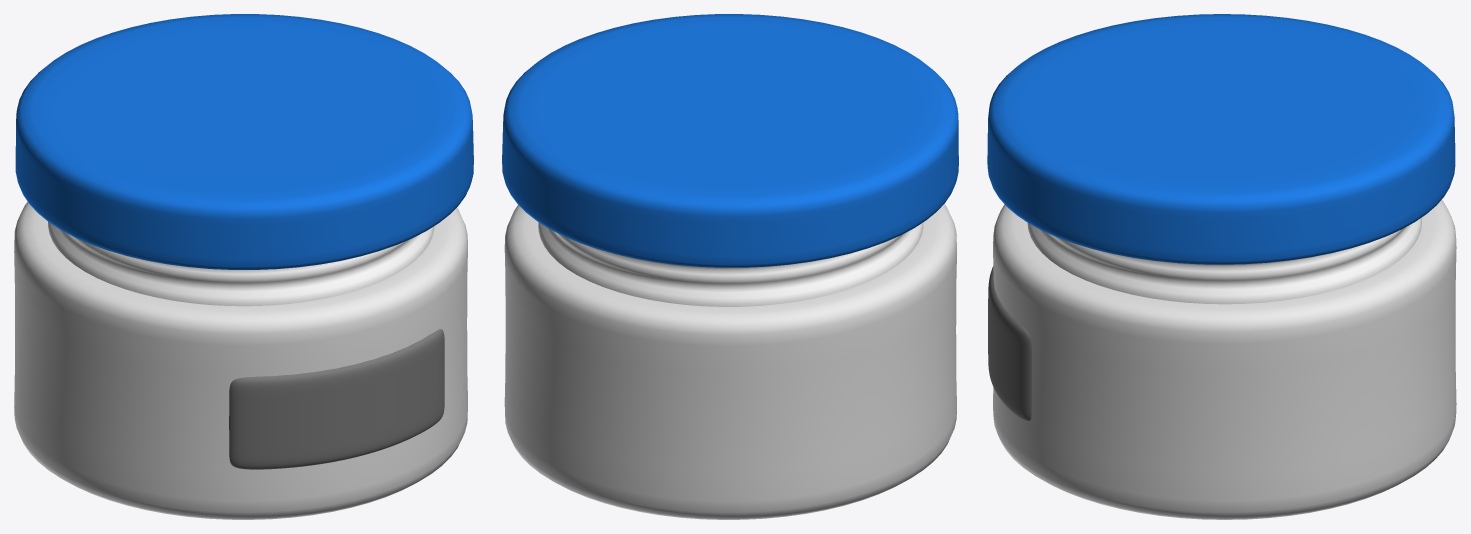
The model's file is clay-mask-3d-animated-icon-190717302385.glb.
3 views of the same model, side by side, from view 1: azimuth 30°, elevation 25°; view 2: azimuth 150°, elevation 25°; view 3: azimuth 270°, elevation 25° (orthographic).
Parts seen in each view (by area): view 1: Cylinder.003, Cylinder.005, Cylinder.006, Cylinder.004; view 2: Cylinder.005, Cylinder.003, Cylinder.004; view 3: Cylinder.005, Cylinder.003, Cylinder.004, Cylinder.006.
Boxes of the visible parts, x1,y1,x2,y2 form: Cylinder.003: (15, 14, 473, 269); Cylinder.005: (14, 201, 467, 519); Cylinder.006: (229, 329, 444, 469); Cylinder.004: (48, 222, 434, 306); Cylinder.005: (504, 204, 956, 519); Cylinder.003: (502, 14, 958, 267); Cylinder.004: (538, 222, 923, 306); Cylinder.005: (993, 200, 1456, 519); Cylinder.003: (987, 14, 1455, 264); Cylinder.004: (1027, 218, 1421, 304); Cylinder.006: (988, 266, 1031, 421).
Size of the model in its own units: 3.57 by 2.82 by 3.62.
